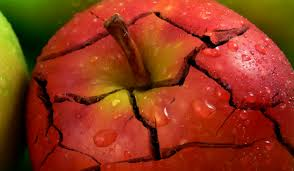damaged_apple: (24, 7, 290, 166)
